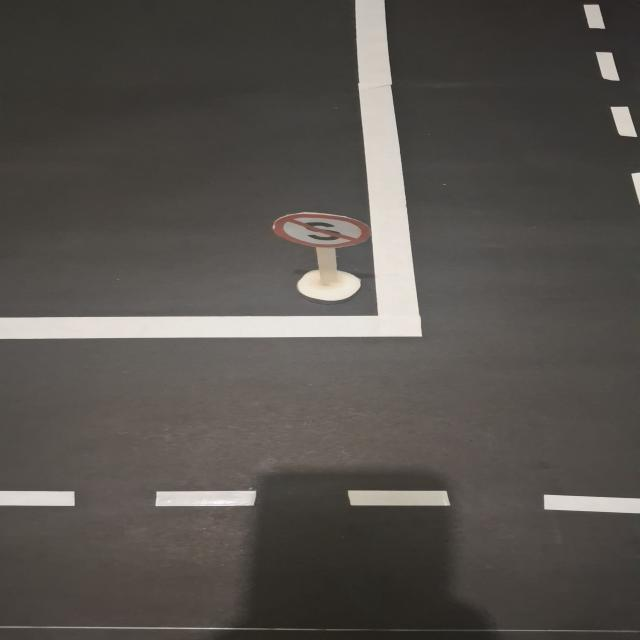Rambu Berhenti: (272, 213, 372, 248)
